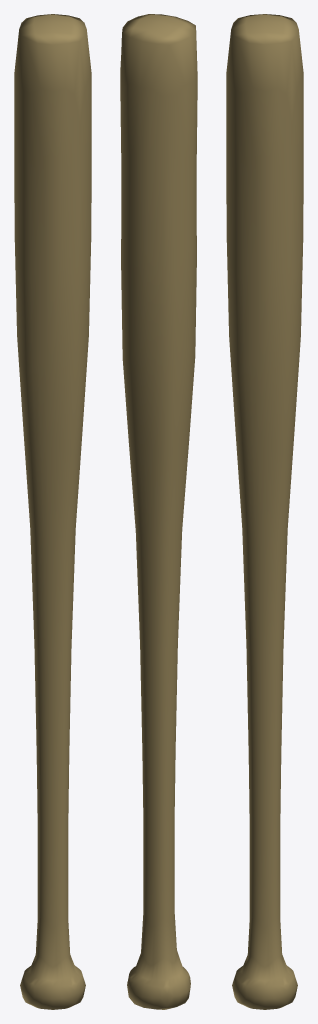
Rendered from SM_BaseballBat.fbx.
3 views of the same model, side by side, from view 1: azimuth 90°, elevation 25°; view 2: azimuth 150°, elevation 25°; view 3: azimuth 270°, elevation 25° (orthographic).
Visible parts, largest first — view 1: BaseballBat; view 2: BaseballBat; view 3: BaseballBat.
Boxes of the visible parts, box(x1,y1,x2,y2) form: BaseballBat: box(14, 14, 91, 1009); BaseballBat: box(120, 14, 197, 1009); BaseballBat: box(226, 14, 303, 1009).
Size of the model in its own units: 7.04 by 94.08 by 6.75.
